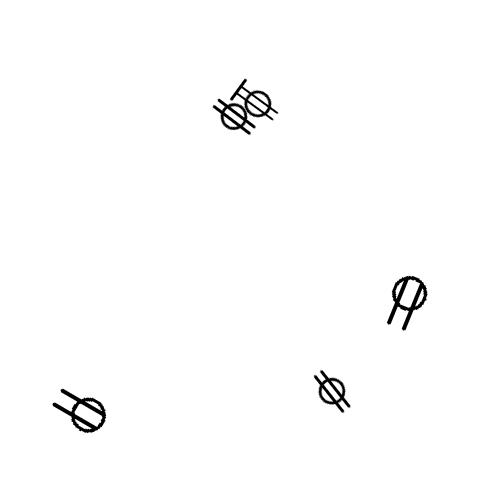Duplex-Receptacle: (377, 283, 436, 319), (52, 393, 111, 429), (231, 86, 283, 119), (307, 376, 360, 407), (209, 101, 262, 132)
